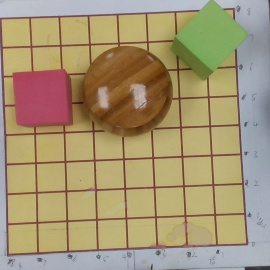chess: (82, 45, 173, 138)
